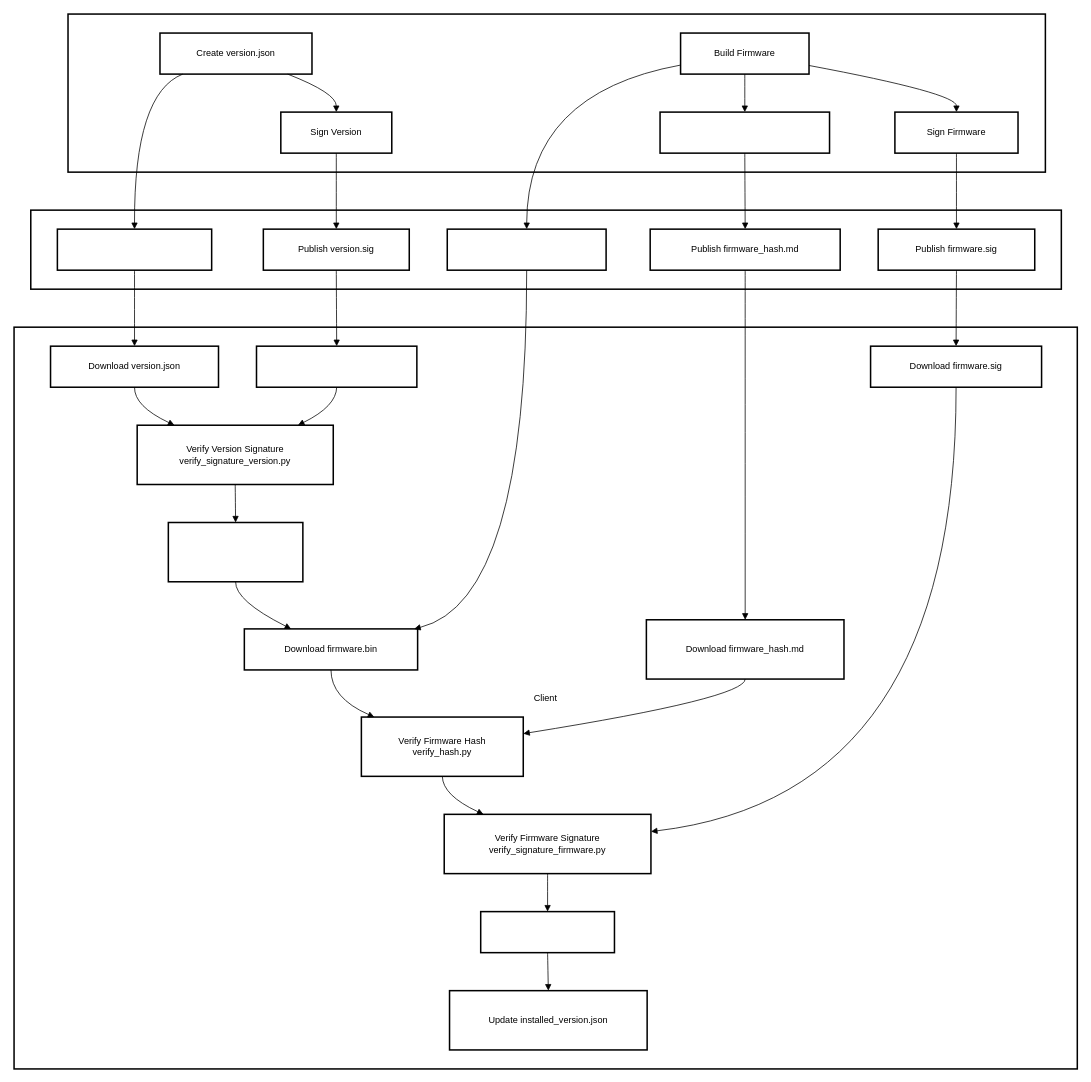
Image size: 1091x1082. Some labels were removed from this diagram. Each missing label, with the box of its shape:
Anti Rollback anti_rollback.py: (167, 521, 303, 582)
Developer: (67, 13, 1046, 173)
Download version.sig: (255, 345, 417, 388)
Generate SHA256 Hash: (659, 111, 830, 154)
Install Firmware: (480, 910, 615, 953)
OTA Server: (30, 209, 1062, 290)
Publish firmware.bin: (446, 228, 606, 271)
Publish version.json: (56, 228, 212, 271)
